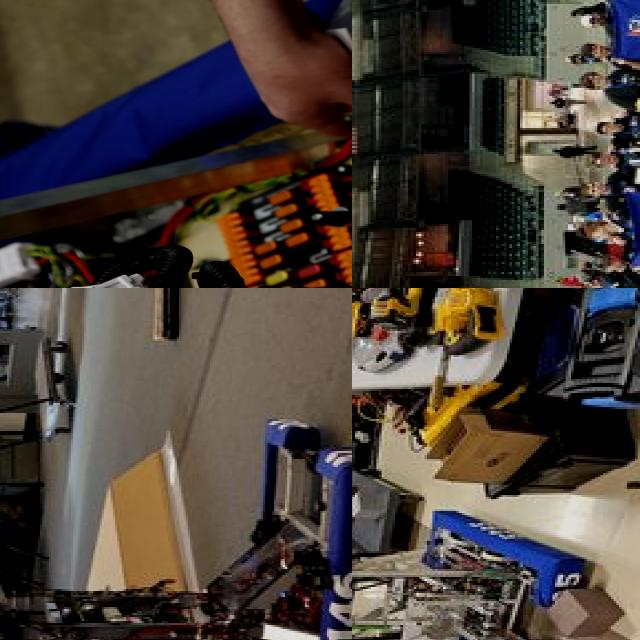FRC-Robots: (0, 0, 352, 288), (0, 356, 352, 640), (352, 531, 616, 640)
